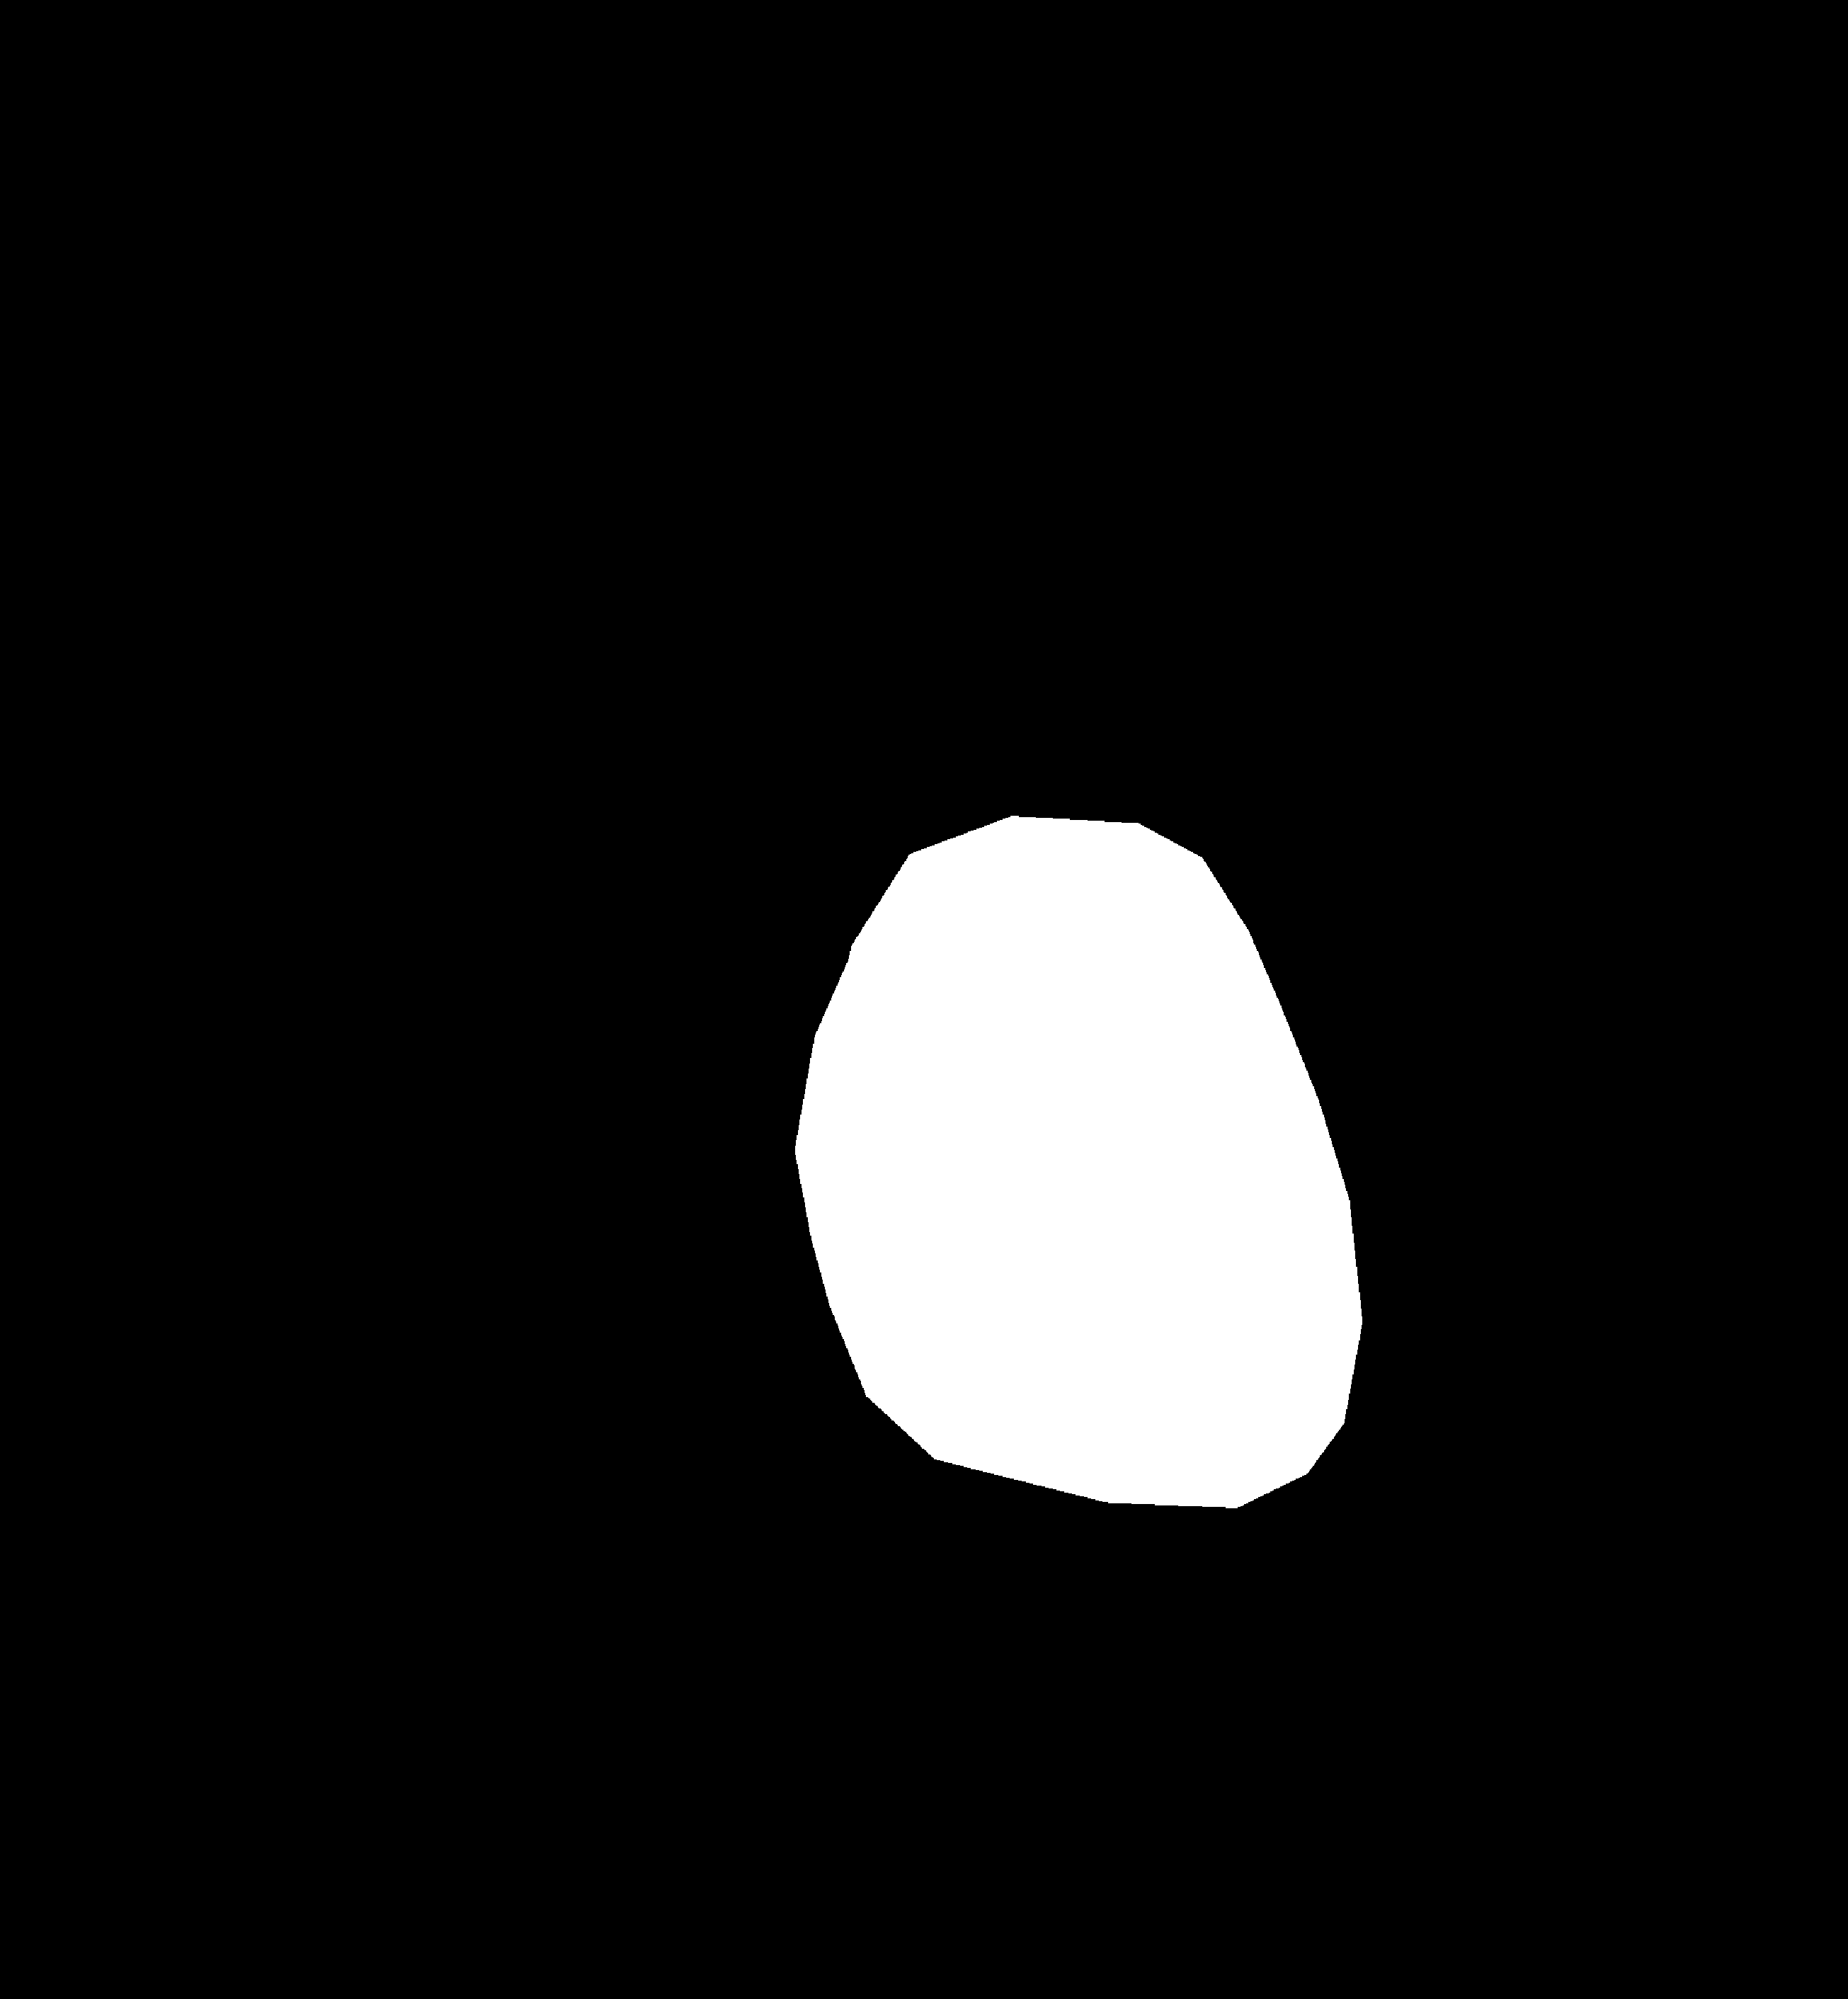heart: (801, 905, 1366, 1494)
left_lung: (329, 211, 899, 1790)
right_lung: (1104, 226, 1663, 1734)
